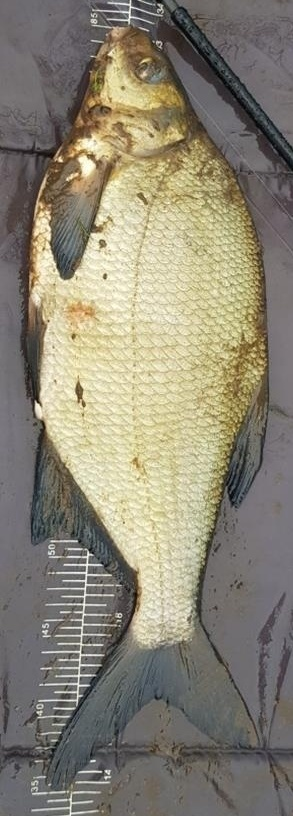Abramis brama: (20, 20, 273, 796)
